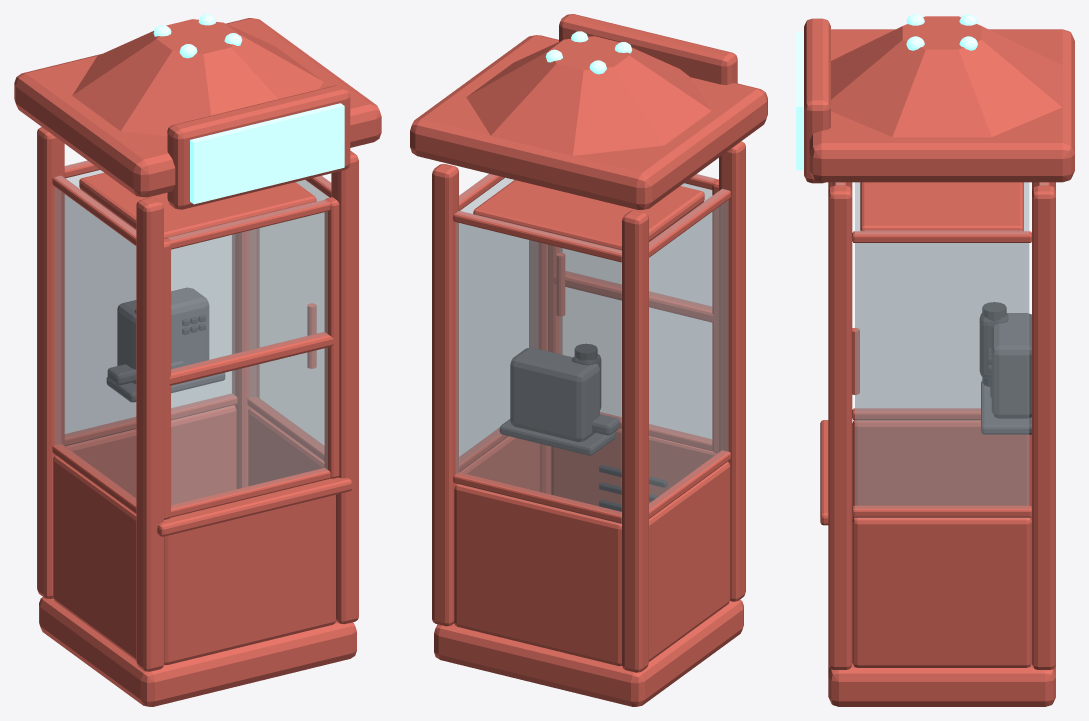
File: prop_phone_booth.glb
3 renders of one model, left to right at view 1: azimuth 30°, elevation 25°; view 2: azimuth 150°, elevation 25°; view 3: azimuth 270°, elevation 25°, orthographic. The views are drawn at different scales.
Visible parts, largest first — view 1: prop_phone_booth_glass_door, prop_phone_booth_kick_f, prop_phone_booth_glass_side_l, prop_phone_booth_glass_back, prop_phone_booth_crown, prop_phone_booth_glass_side_r, prop_phone_booth_post_lf, prop_phone_booth_roof, prop_phone_booth_kick_l, prop_phone_booth_plinth, prop_phone_booth_post_lb, prop_phone_booth_sign_face (+19 smaller); view 2: prop_phone_booth_glass_back, prop_phone_booth_kick_b, prop_phone_booth_glass_side_l, prop_phone_booth_roof, prop_phone_booth_crown, prop_phone_booth_glass_door, prop_phone_booth_glass_side_r, prop_phone_booth_post_lb, prop_phone_booth_kick_l, prop_phone_booth_plinth, prop_phone_booth_post_rb, prop_phone_booth_post_lf (+19 smaller); view 3: prop_phone_booth_glass_side_r, prop_phone_booth_kick_r, prop_phone_booth_glass_side_l, prop_phone_booth_crown, prop_phone_booth_roof, prop_phone_booth_kick_l, prop_phone_booth_post_rf, prop_phone_booth_post_rb, prop_phone_booth_plinth, prop_phone_booth_canopy, prop_phone_booth_phone_body, prop_phone_booth_sign_box (+8 smaller).
Boxes of the visible parts, left/top/right/bottom form: prop_phone_booth_glass_door: left=168, top=200, right=327, bottom=508; prop_phone_booth_kick_f: left=164, top=494, right=335, bottom=665; prop_phone_booth_glass_side_l: left=55, top=176, right=135, bottom=504; prop_phone_booth_glass_back: left=65, top=160, right=234, bottom=434; prop_phone_booth_crown: left=72, top=19, right=323, bottom=136; prop_phone_booth_glass_side_r: left=250, top=176, right=330, bottom=445; prop_phone_booth_post_lf: left=136, top=197, right=163, bottom=671; prop_phone_booth_roof: left=14, top=18, right=381, bottom=197; prop_phone_booth_kick_l: left=53, top=455, right=136, bottom=660; prop_phone_booth_plinth: left=39, top=597, right=356, bottom=706; prop_phone_booth_post_lb: left=37, top=127, right=64, bottom=598; prop_phone_booth_sign_face: left=190, top=103, right=344, bottom=204; prop_phone_booth_glass_back: left=456, top=211, right=621, bottom=523; prop_phone_booth_kick_b: left=454, top=484, right=621, bottom=666; prop_phone_booth_glass_side_l: left=649, top=189, right=728, bottom=509; prop_phone_booth_roof: left=410, top=35, right=767, bottom=209; prop_phone_booth_crown: left=466, top=36, right=711, bottom=155; prop_phone_booth_glass_door: left=559, top=174, right=715, bottom=439; prop_phone_booth_glass_side_r: left=459, top=174, right=538, bottom=457; prop_phone_booth_post_lb: left=622, top=210, right=648, bottom=672; prop_phone_booth_kick_l: left=649, top=461, right=730, bottom=661; prop_phone_booth_plinth: left=434, top=600, right=743, bottom=706; prop_phone_booth_post_rb: left=432, top=164, right=458, bottom=626; prop_phone_booth_post_lf: left=719, top=141, right=745, bottom=601; prop_phone_booth_glass_side_r: left=855, top=231, right=1028, bottom=508; prop_phone_booth_kick_r: left=852, top=517, right=1031, bottom=667; prop_phone_booth_glass_side_l: left=855, top=182, right=1028, bottom=420; prop_phone_booth_crown: left=831, top=16, right=1062, bottom=137; prop_phone_booth_roof: left=809, top=29, right=1074, bottom=182; prop_phone_booth_kick_l: left=852, top=420, right=1031, bottom=520; prop_phone_booth_post_rf: left=828, top=185, right=852, bottom=669; prop_phone_booth_post_rb: left=1032, top=185, right=1055, bottom=669; prop_phone_booth_plinth: left=828, top=663, right=1055, bottom=706; prop_phone_booth_canopy: left=860, top=182, right=1023, bottom=231; prop_phone_booth_phone_body: left=991, top=313, right=1031, bottom=418; prop_phone_booth_sign_box: left=804, top=18, right=830, bottom=183.
Bounding box in the file's own units: 1.09 × 2.6 × 1.04.
